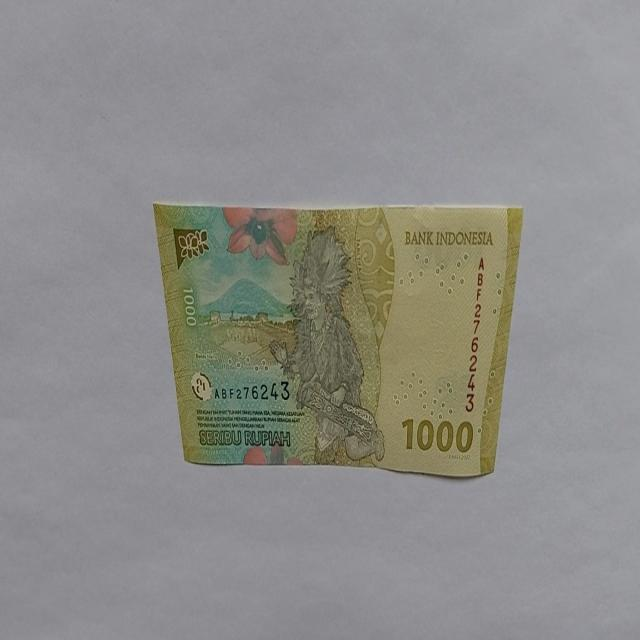seribu rupiah kertas: (152, 200, 524, 477)
